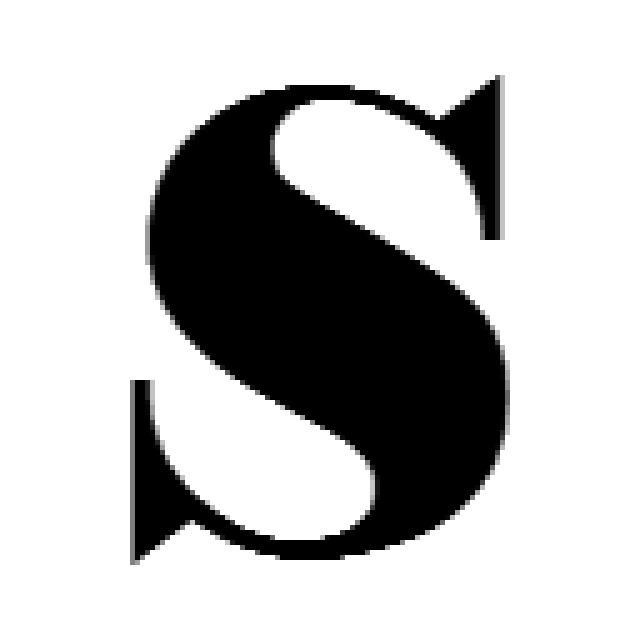S: (115, 65, 515, 565)
